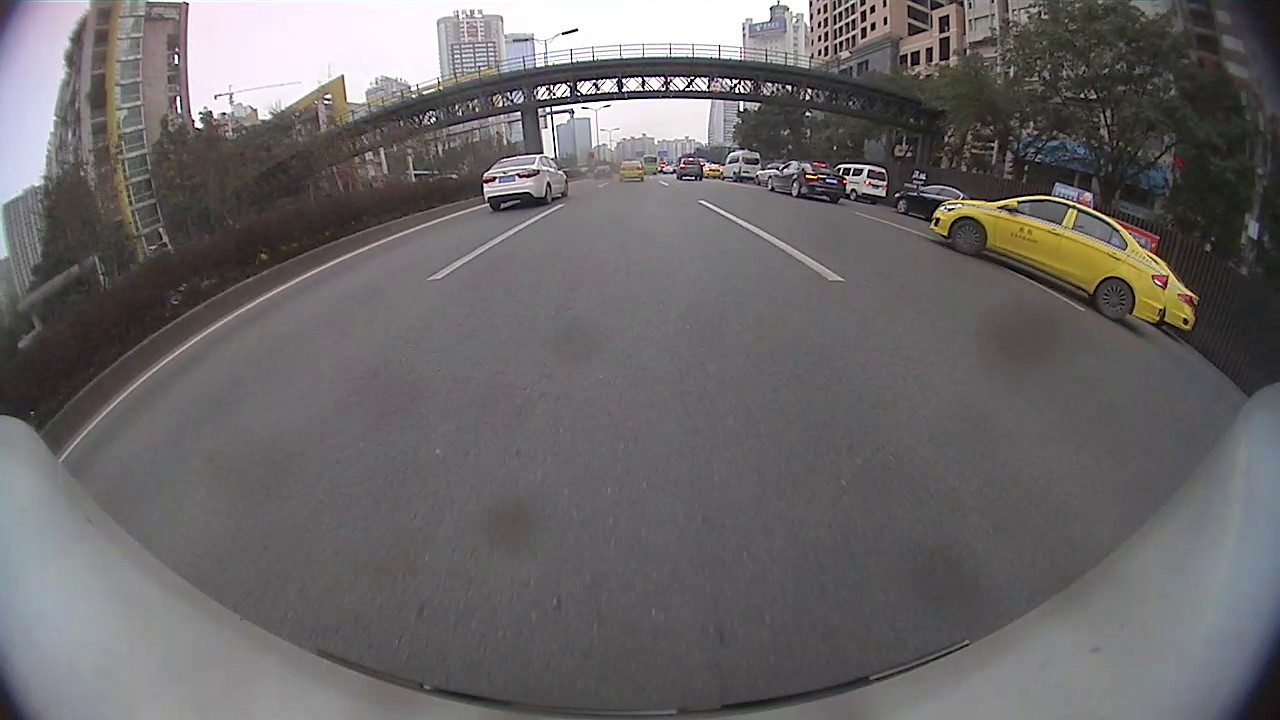car: (930, 194, 1167, 323), (1133, 251, 1199, 333), (483, 154, 570, 211), (766, 159, 845, 203), (895, 183, 969, 217), (832, 164, 890, 202), (724, 150, 763, 181), (674, 157, 705, 182), (620, 160, 644, 182)
front: (948, 218, 987, 259), (896, 199, 910, 216)
rear: (1096, 275, 1134, 323), (792, 179, 803, 198)
